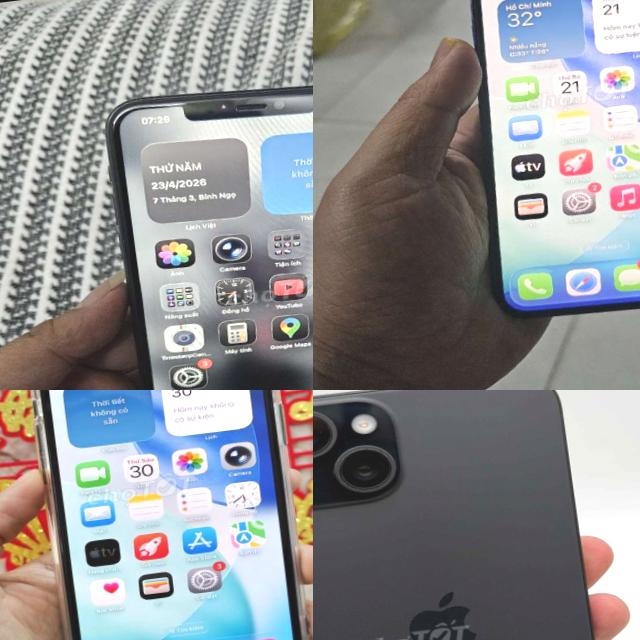gen_11: (0, 390, 313, 640), (82, 58, 313, 390)
gen_12_13: (455, 0, 640, 339)
gen_15: (313, 390, 640, 640)
